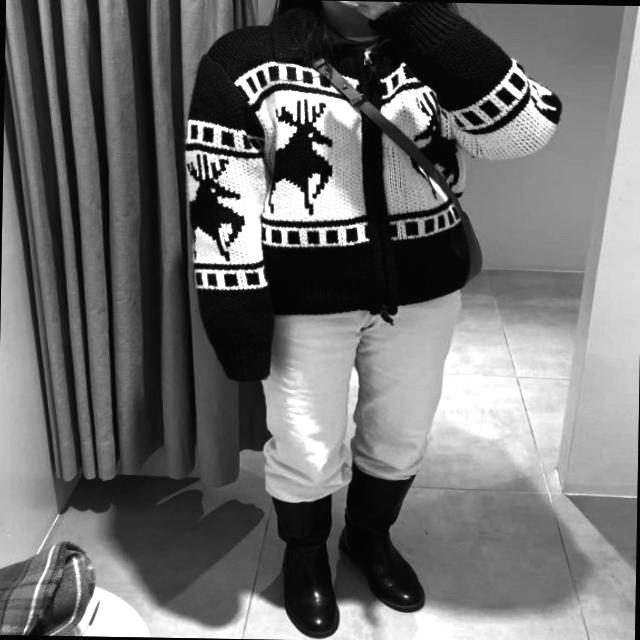cardigan: (181, 0, 564, 383)
cottonpants: (259, 286, 457, 509)
